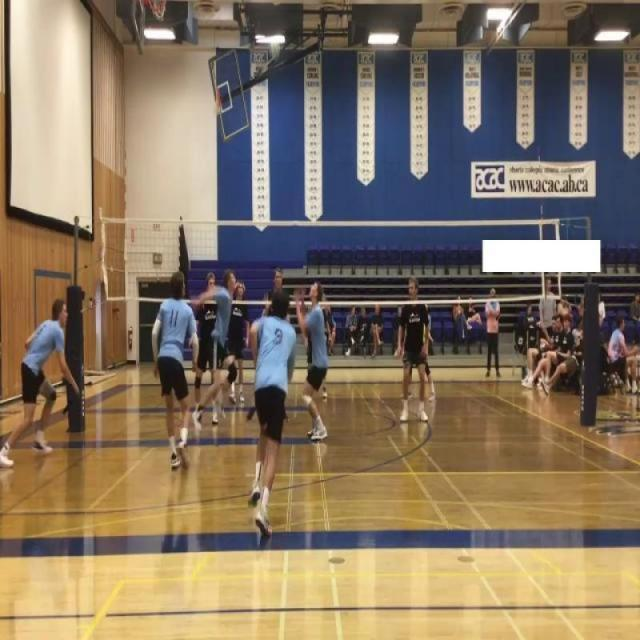volleyball: (269, 40, 281, 61)
